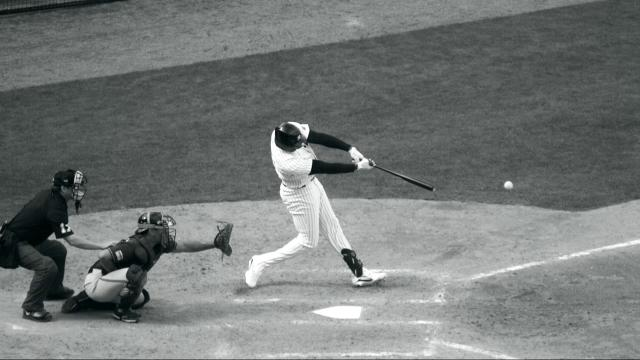baseball bat: (374, 164, 436, 192)
sports ball: (504, 180, 514, 189)
